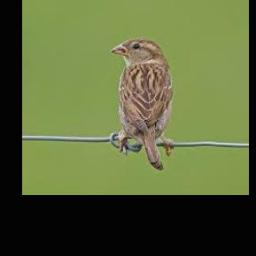Sparrow: (110, 37, 172, 169)
